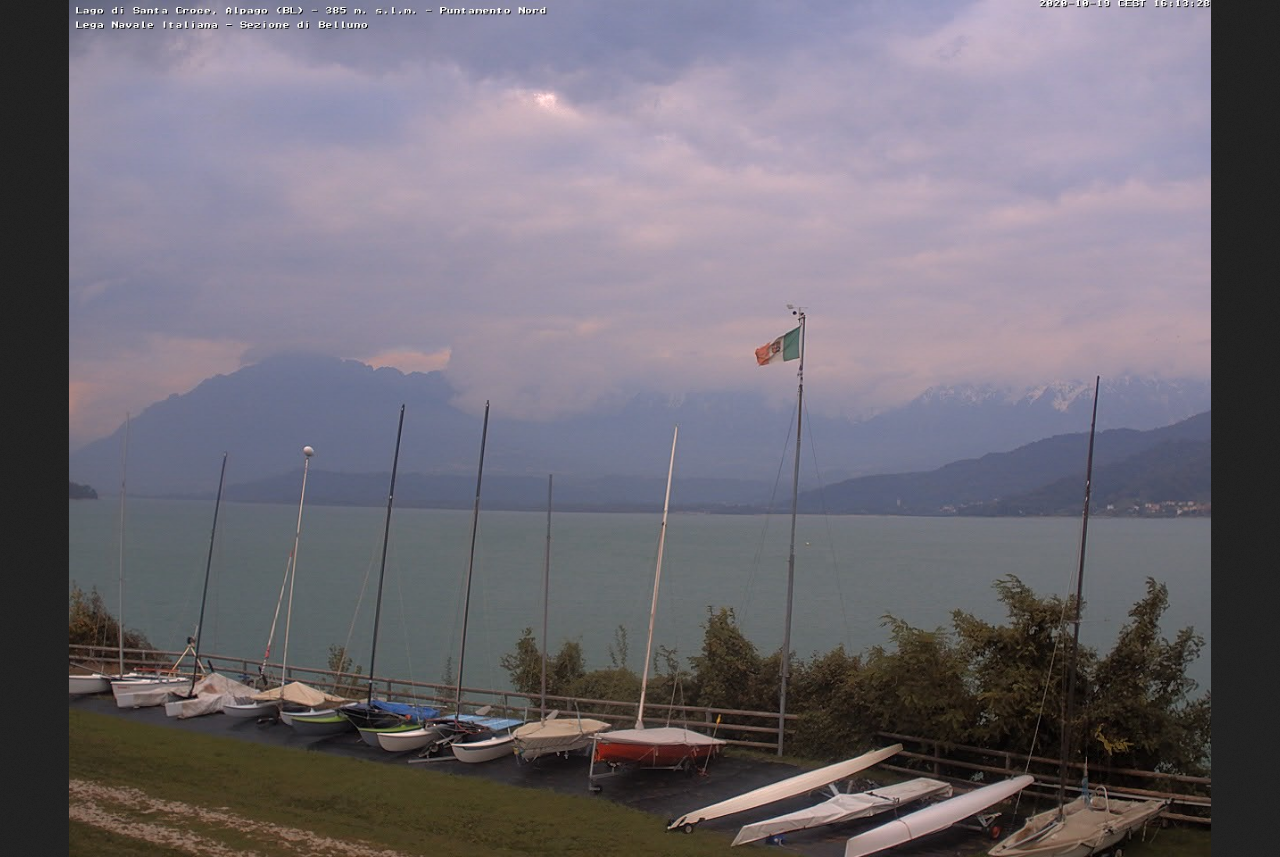yes: (756, 326, 804, 368)
